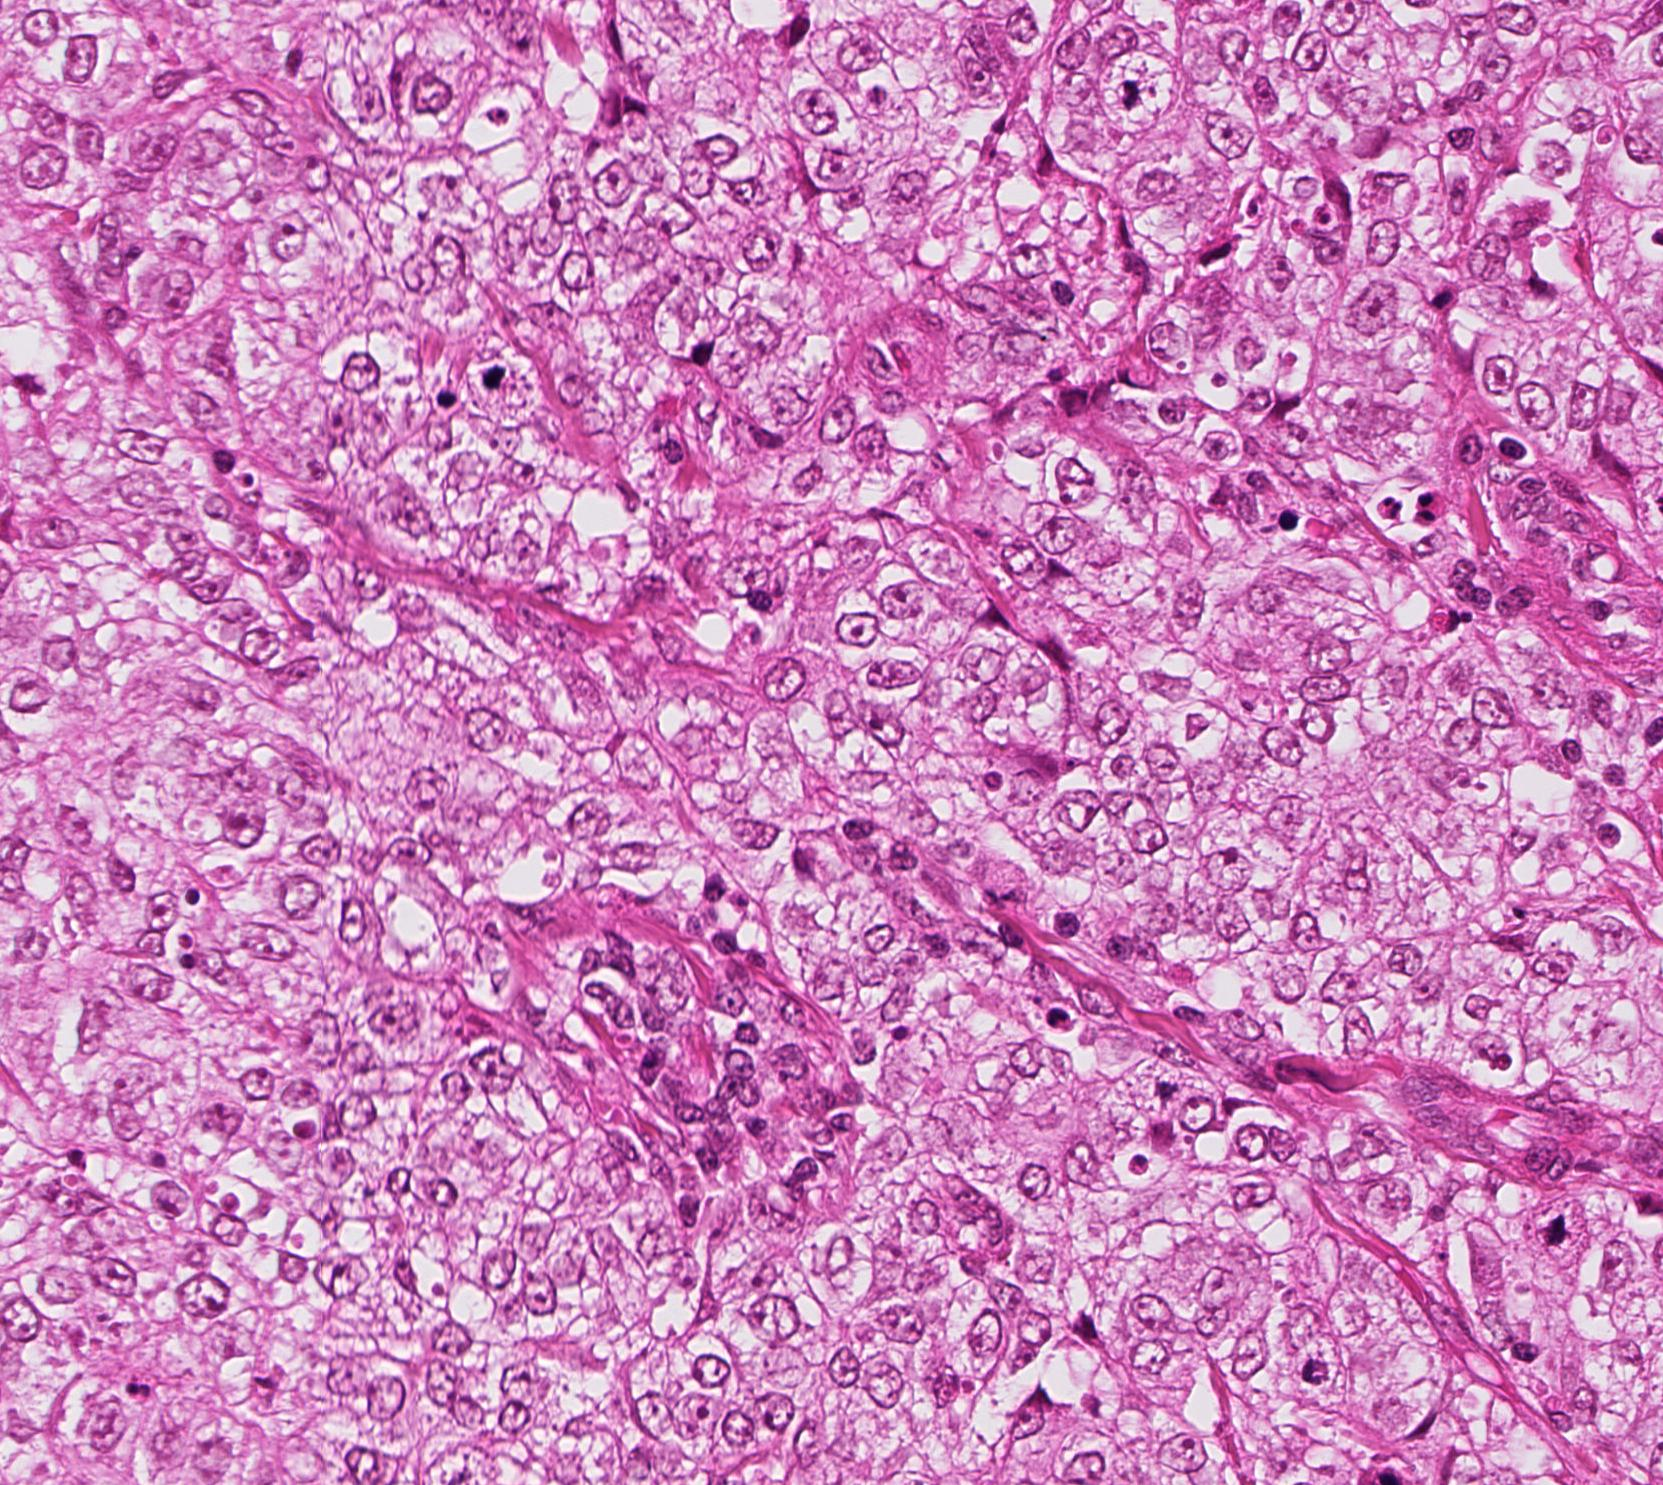mitosis: (1276, 1337, 1336, 1398), (1523, 1195, 1581, 1256)
